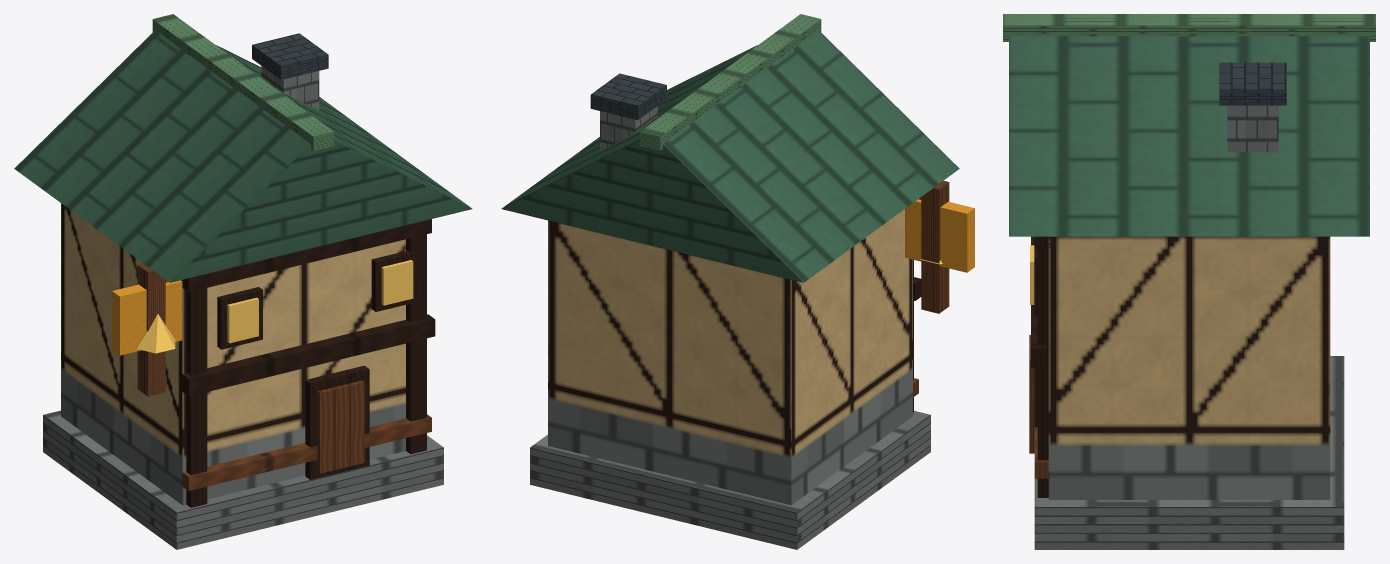
File: Inn.fbx
The picture shows the model from 3 angles, left to right: view 1: azimuth 30°, elevation 25°; view 2: azimuth 150°, elevation 25°; view 3: azimuth 270°, elevation 25°; orthographic projection. The views are drawn at different scales.
Visible parts, largest first — view 1: Inn; view 2: Inn; view 3: Inn.
Part boxes in pixels (bbox=[...]): Inn: bbox=[14, 14, 472, 549]; Inn: bbox=[501, 14, 974, 549]; Inn: bbox=[1003, 14, 1375, 549].
Size of the model in its own units: 113 by 127 by 94.
